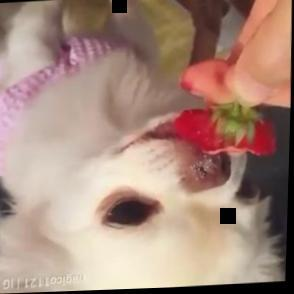nasal_discharge: (186, 150, 222, 190)
